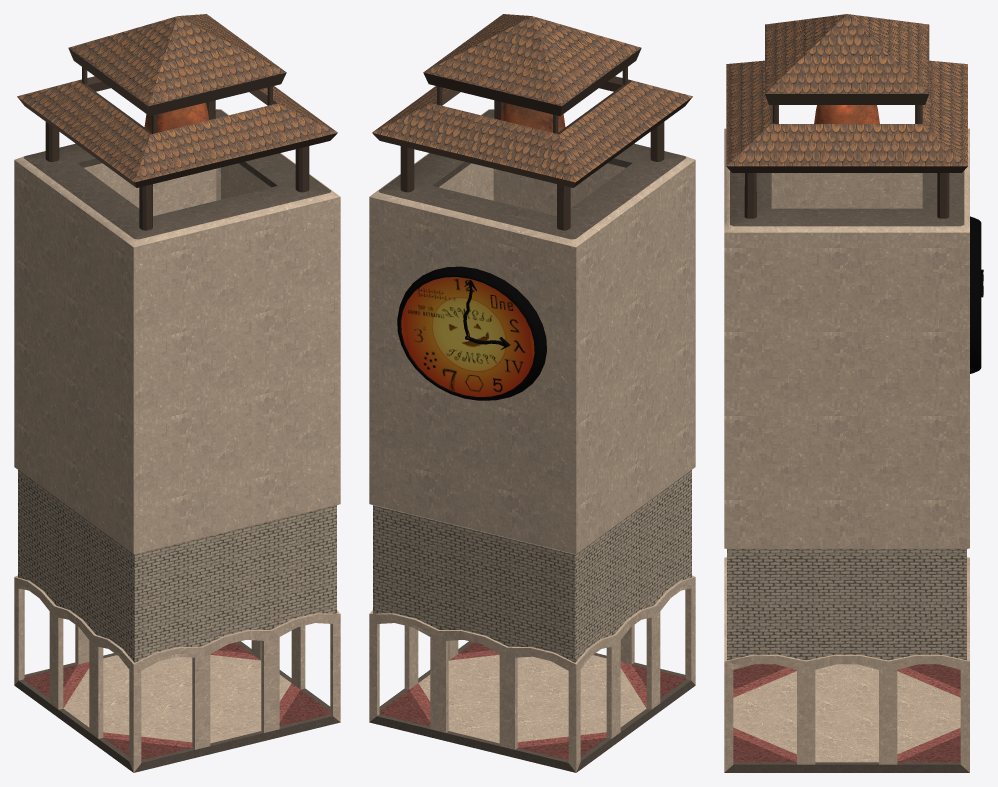
File: BellTower.fbx
The picture shows the model from 3 angles, left to right: view 1: azimuth 30°, elevation 25°; view 2: azimuth 150°, elevation 25°; view 3: azimuth 270°, elevation 25°; orthographic projection. The views are drawn at different scales.
Parts seen in each view (by area): view 1: BellTower, Bell; view 2: BellTower, Clock, Bell; view 3: BellTower, Clock, Bell.
Boxes of the visible parts, bbox=[...] form: BellTower: bbox=[14, 14, 340, 772]; Bell: bbox=[144, 102, 209, 132]; BellTower: bbox=[369, 14, 695, 772]; Clock: bbox=[397, 266, 546, 400]; Bell: bbox=[501, 102, 565, 132]; BellTower: bbox=[724, 14, 969, 772]; Clock: bbox=[970, 216, 981, 373]; Bell: bbox=[814, 105, 879, 123].
Size of the model in its own units: 1800 by 5713 by 1901.
8 materials, 8 textured.
